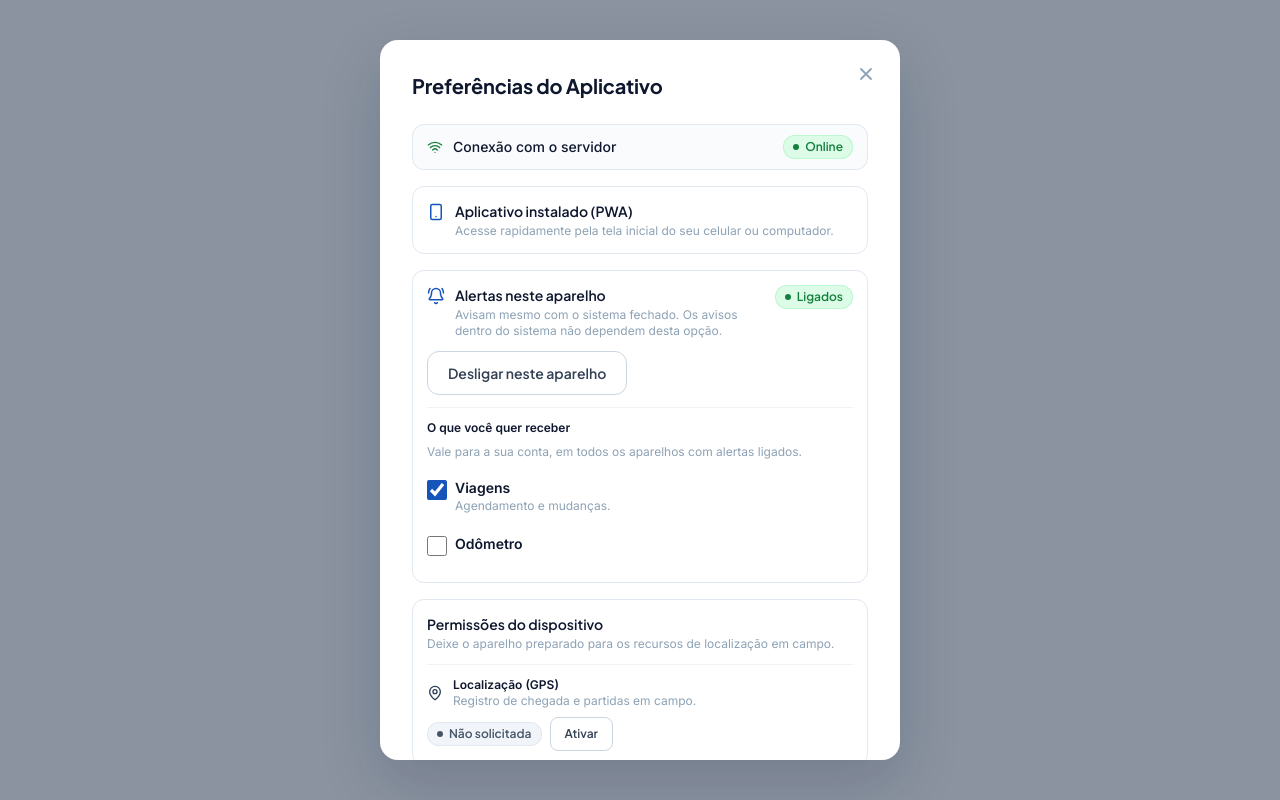
Test case: Ligar e desligar neste aparelho › se nada desligou, continua ligado e mostra o erro
This screenshot has width=1280, height=800.
Click the button "Desligar neste aparelho".
click(527, 373)  # box [427,351,627,395]
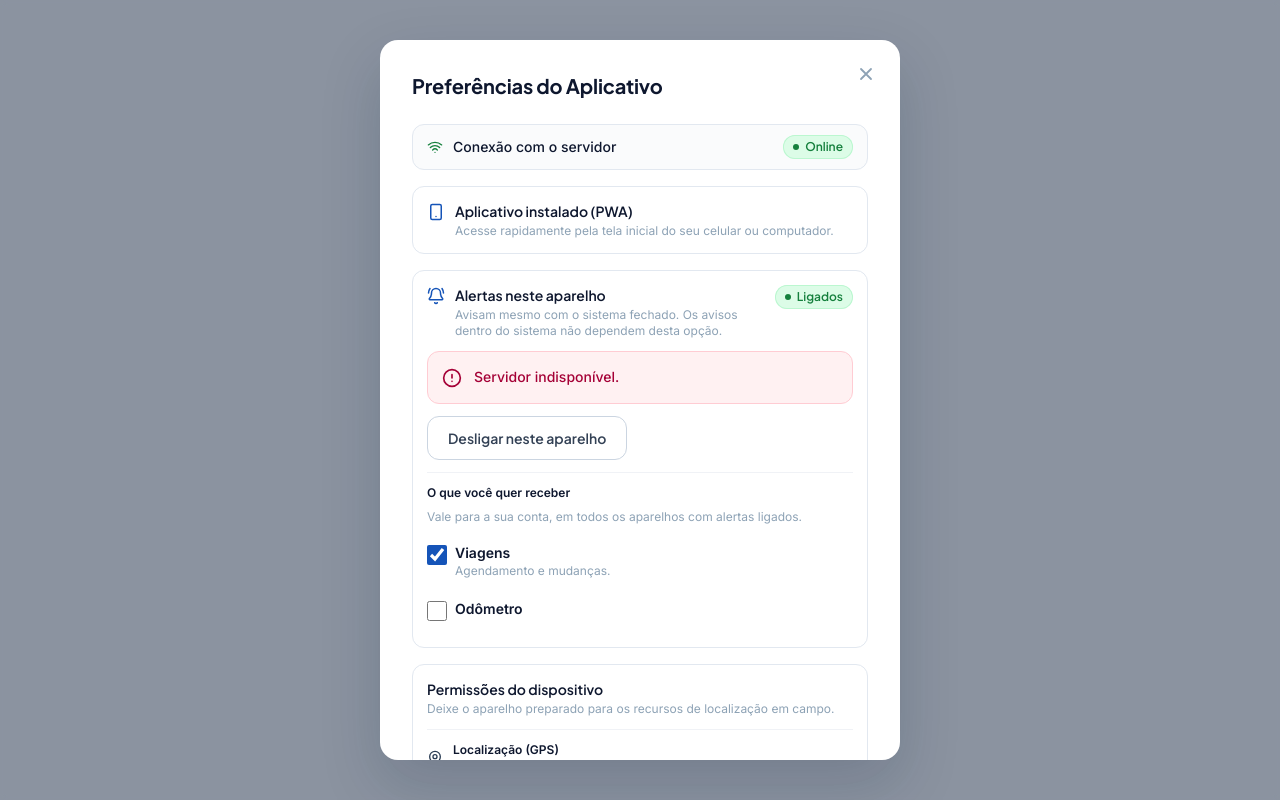
expect the button "Desligar neste aparelho" is shown: met, box [427,416,627,460]
expect the text "Servidor indisponível." is shown: met, box [474,368,619,385]
